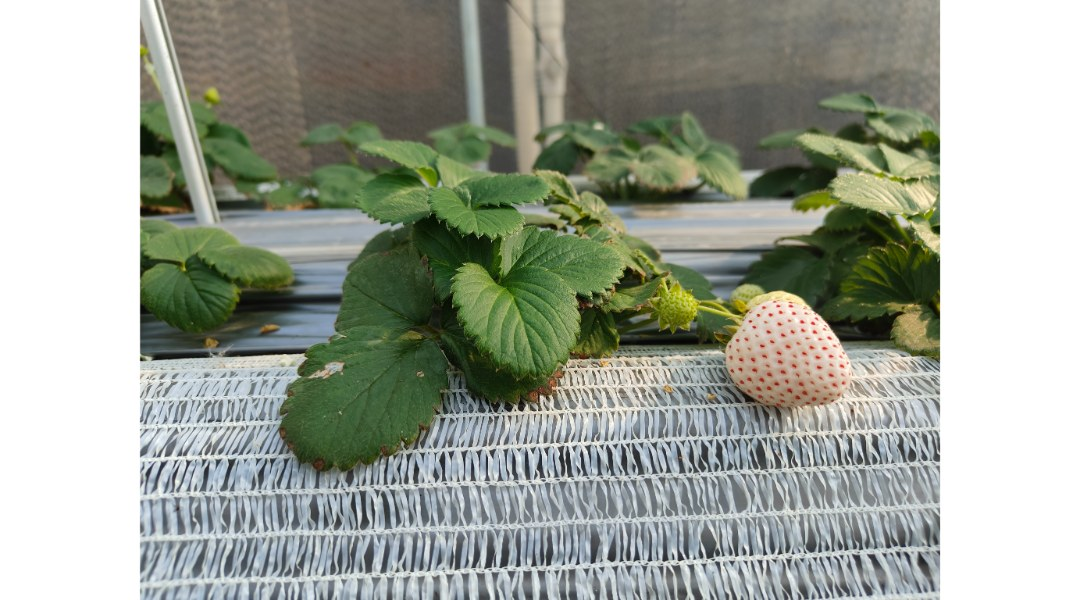berry: (716, 276, 861, 418), (636, 256, 697, 346)
